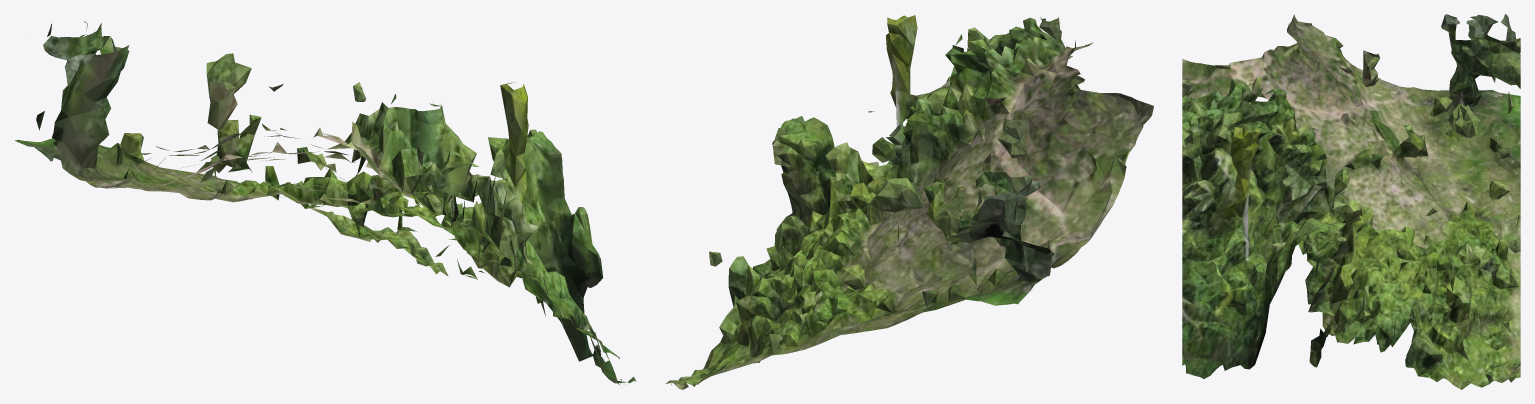
3 renders of one model, left to right at view 1: azimuth 30°, elevation 25°; view 2: azimuth 150°, elevation 25°; view 3: azimuth 270°, elevation 25°, orthographic. The views are drawn at different scales.
Size of the model in its own units: 52.22 by 39.65 by 52.22.
Materials: 5 (5 with a texture image).
